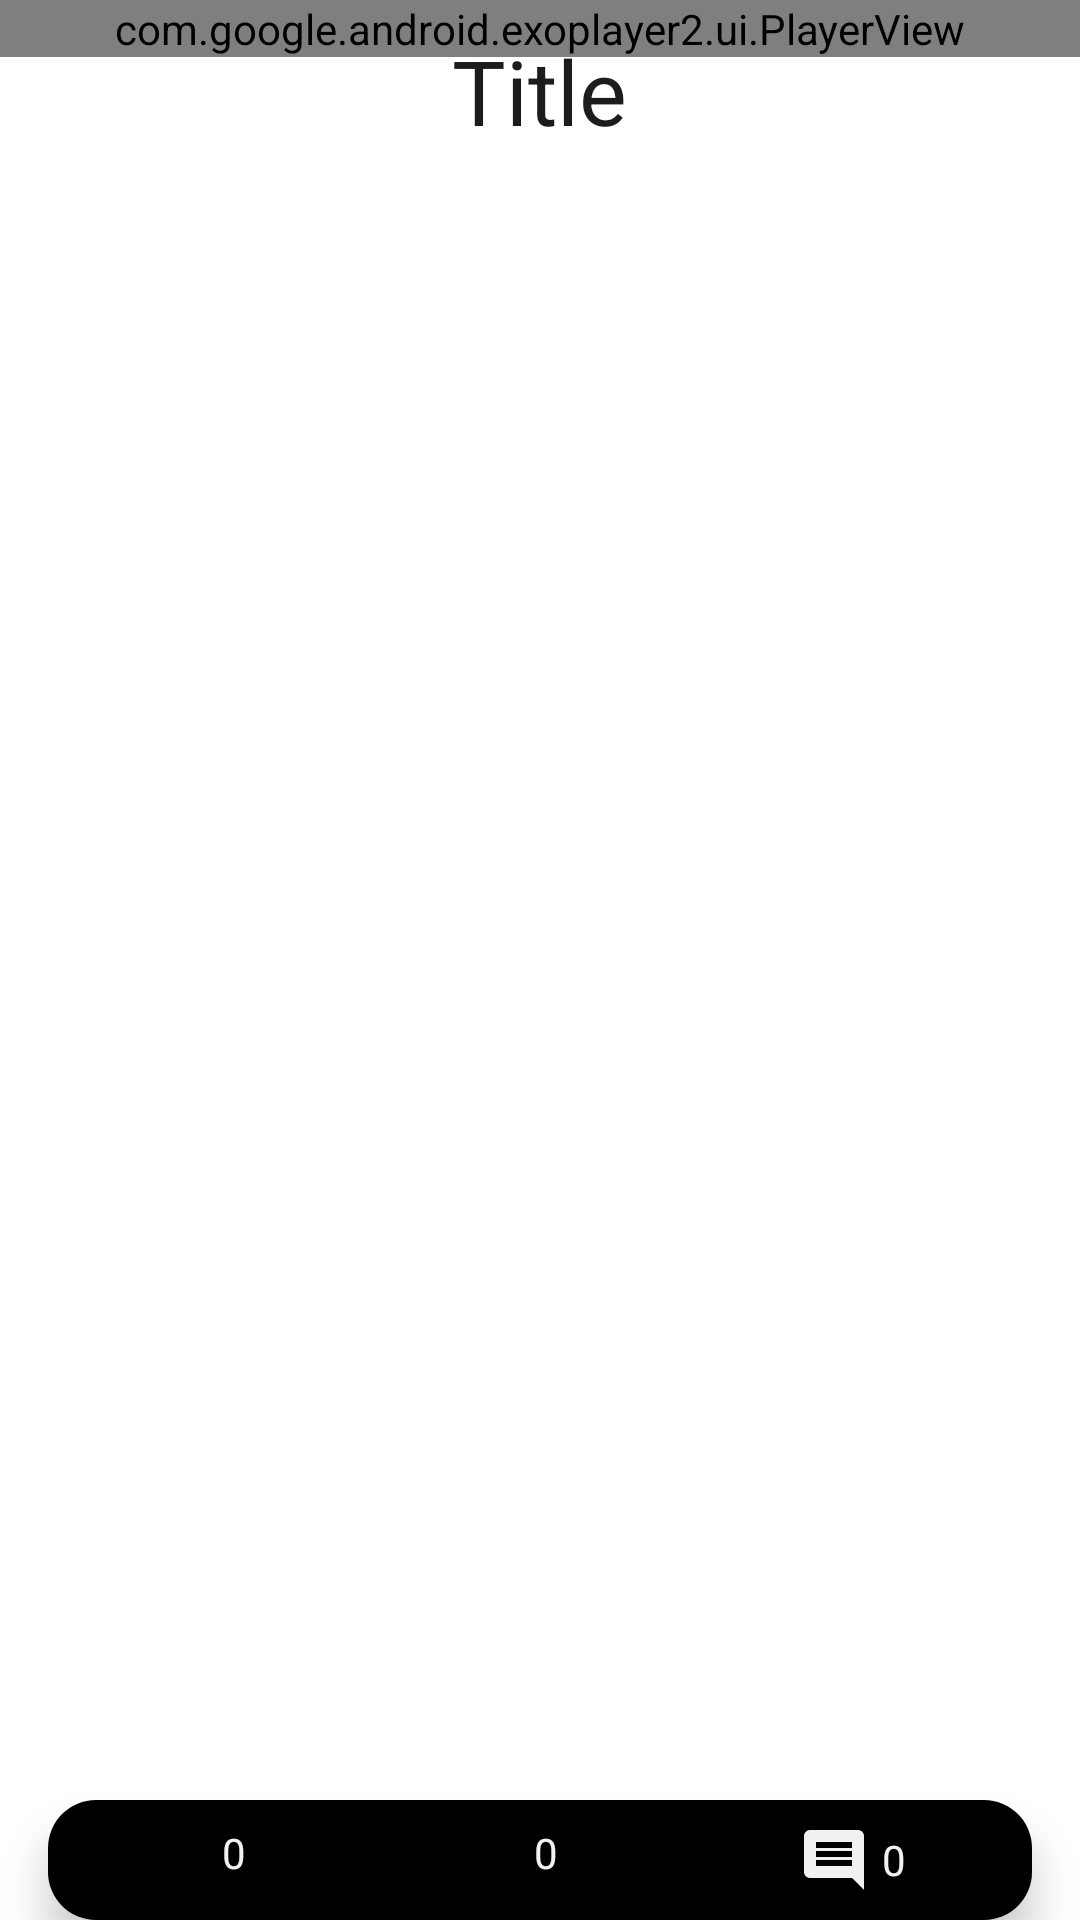

Where icons sit on this 1080 × 1920 app screen, as (x1,y1,x2,y2):
comment: (804,1830,864,1890)
